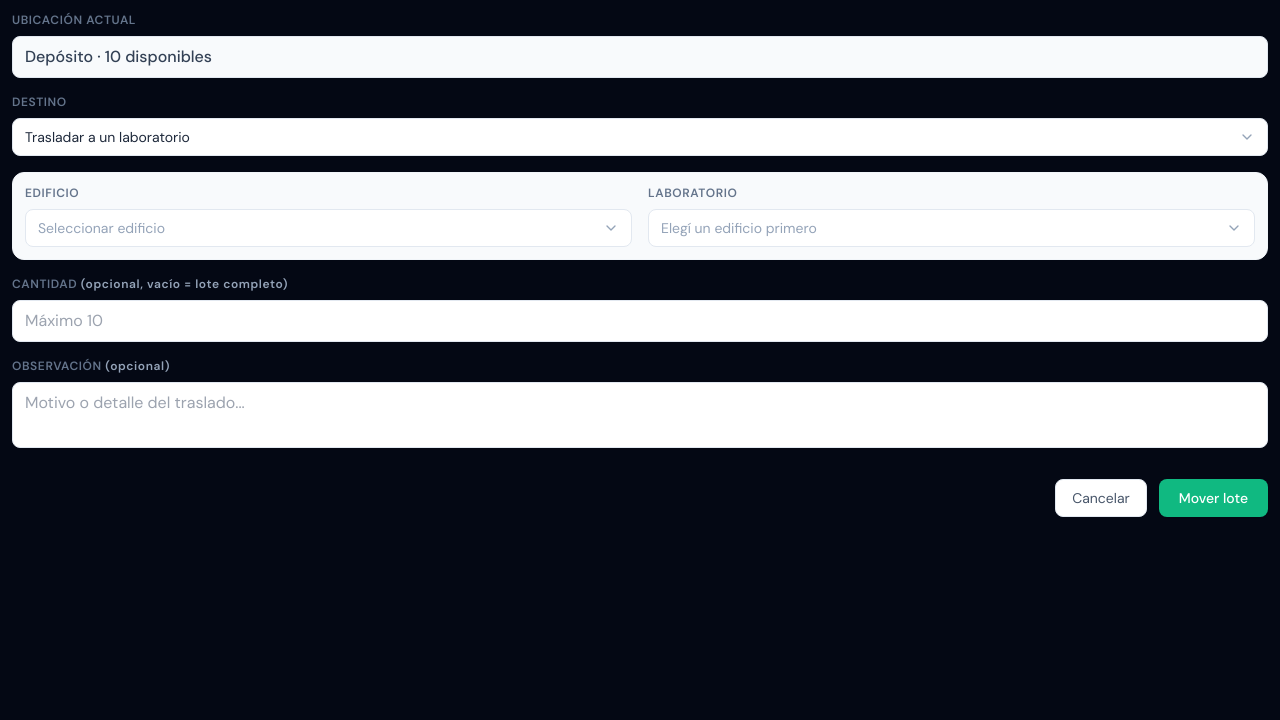
Test: FormularioTransferirLote Component › elegir un edificio carga sus laboratorios en cascada
Expected: the text "Elegí un edificio primero" is shown, [661, 218, 817, 238]
Click the button "Seleccionar edificio" at (102, 228), box [25, 209, 632, 247]
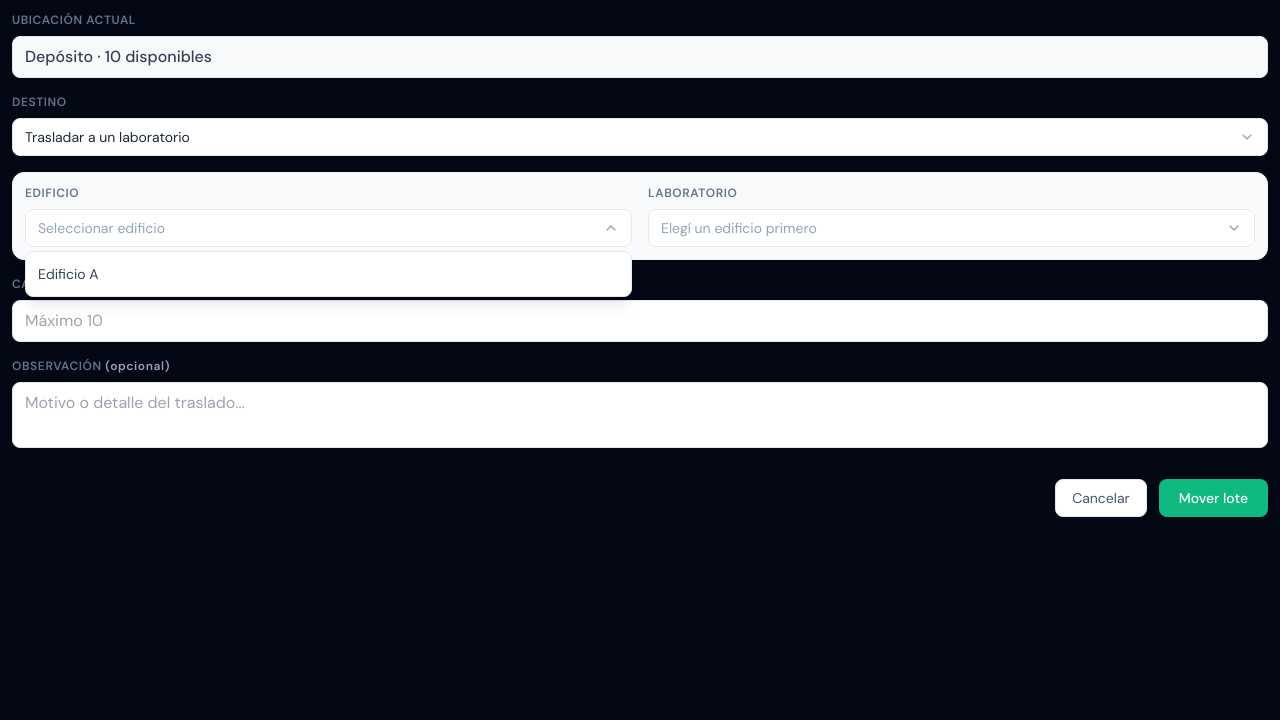
Click the button "Edificio A" at (68, 274), box [26, 256, 631, 292]
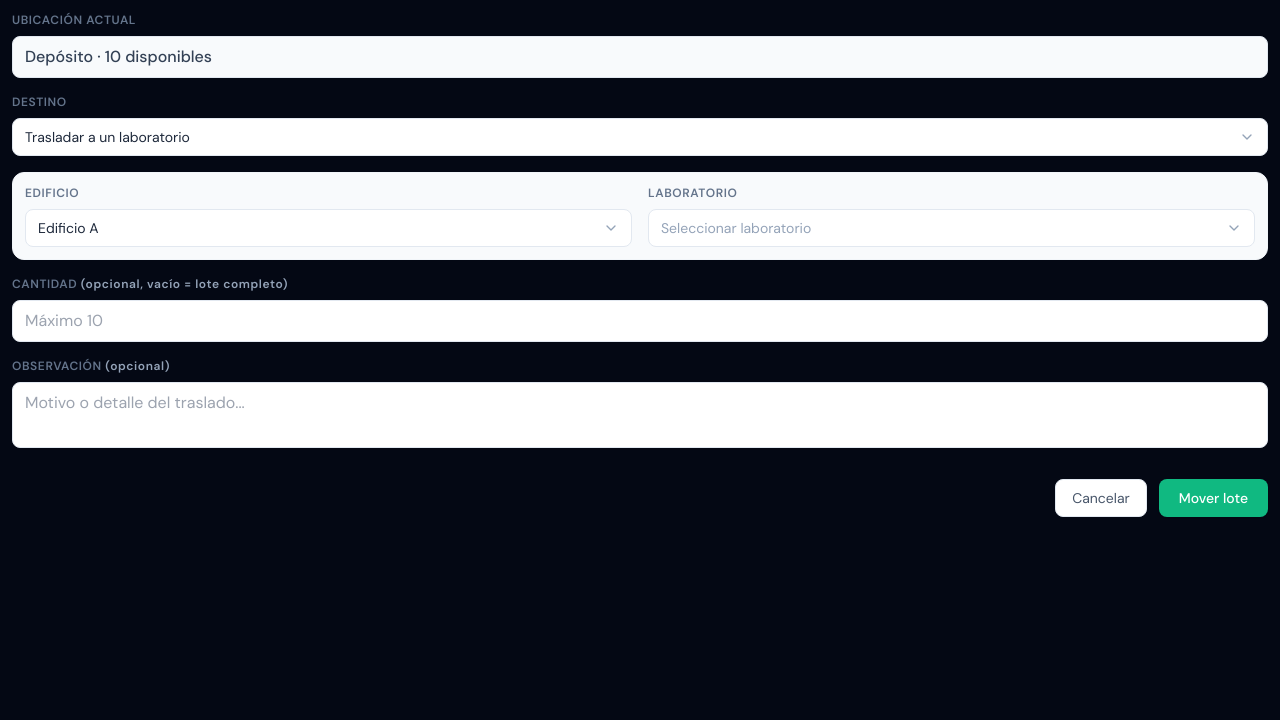
Now the text "Seleccionar laboratorio" is shown, box [661, 218, 811, 238]
